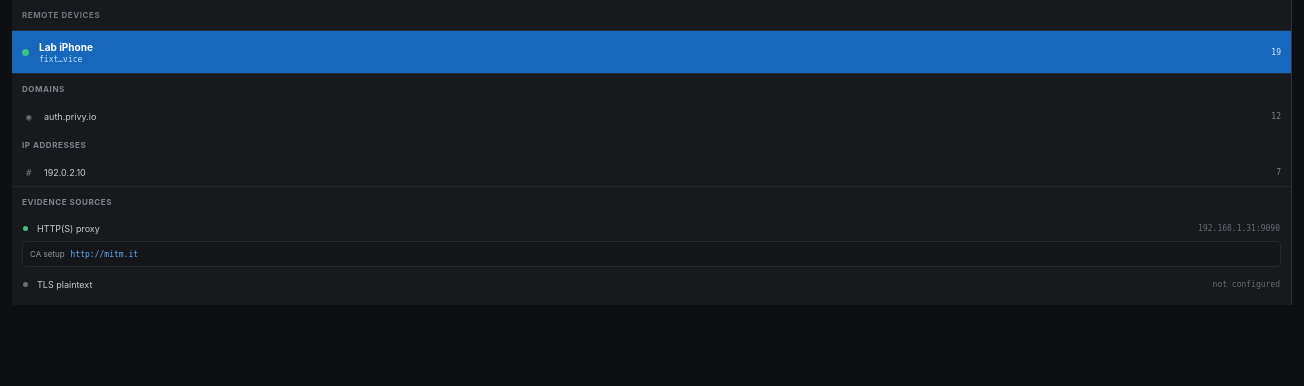
Scenario: EndpointSidebar › explains manual HTTPS setup without claiming CA trust or pinning bypass
Expected: the element named "HTTP proxy: active" is shown, [12,216,1291,267]
Expected: the text "Listening does not prove CA trust" is not shown
Click the text "CA setup" at (47, 254), box [30,249,65,259]
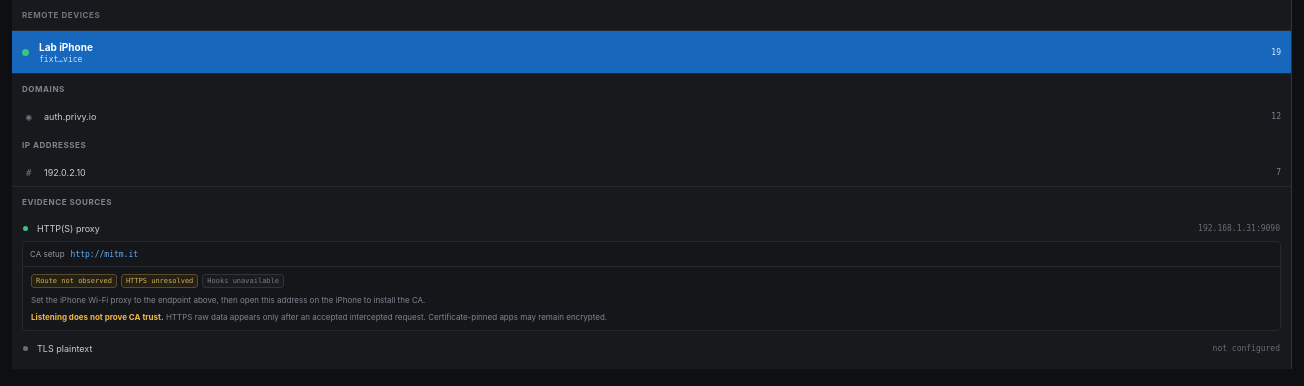
Expected: the text "Route not observed" is shown, [31,274,117,288]
Expected: the text "HTTPS unresolved" is shown, [121,274,198,288]
Expected: the text "Hooks unavailable" is shown, [202,274,284,288]
